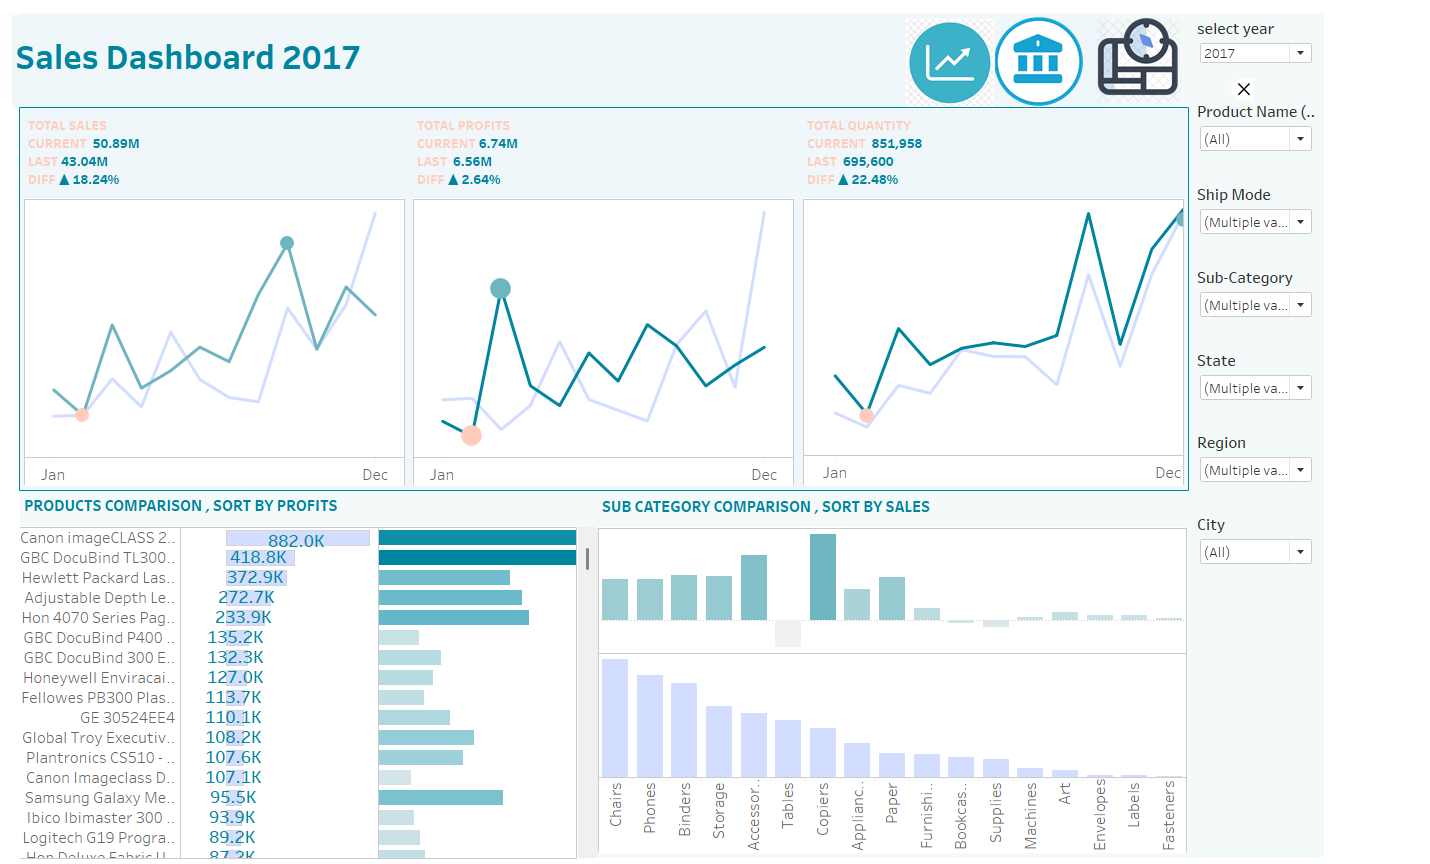

What the dashboard file says about the page in this screenshot:
{"tool":"tableau","page":{"name":"Sales Dashboard","canvas":[1000,1000],"units":"permille","ordinal":0},"visuals":[{"type":"legend","title":"KPI profits","param":"[federated.0tfaefm1ft650711id79g0emtrgj].[:Measure Names]","box":[6.1,10,987.9,89.8]},{"type":"parameter","param":"[Parameters].[Parameter 1]","box":[894.7,10,95.5,96]},{"type":"dashboard-object","box":[816.7,11.2,72.7,106]},{"type":"dashboard-object","box":[736.4,12.5,82.6,106]},{"type":"text","box":[0,13.7,440.9,89.8]},{"type":"dashboard-object","box":[675,15,69.7,103.5]},{"type":"dashboard-object","box":[922.7,82.3,18.2,29.9]},{"type":"filter","title":"KPI profits","param":"[federated.0tfaefm1ft650711id79g0emtrgj].[none:Product Name (Product.csv1):nk]","box":[894.7,106,95.5,96]},{"type":"worksheet","title":"KPI sales","mark":"Automatic","rows":["Calculation_2301057940116906021"],"cols":["Order Date"],"box":[6.1,119.7,294.9,443.9]},{"type":"worksheet","title":"KPI profits","mark":"Automatic","rows":["Calculation_2301057940089802767"],"cols":["Order Date"],"box":[301,119.7,294.9,443.9]},{"type":"worksheet","title":"KPI quantity","mark":"Automatic","rows":["Calculation_2301057940121350187"],"cols":["Order Date"],"box":[595.9,119.7,294.9,443.9]},{"type":"filter","title":"KPI profits","param":"[federated.0tfaefm1ft650711id79g0emtrgj].[none:Ship Mode:nk]","box":[894.7,202,95.5,96]},{"type":"filter","title":"KPI profits","param":"[federated.0tfaefm1ft650711id79g0emtrgj].[none:Sub-Category:nk]","box":[894.7,298,95.5,96]},{"type":"filter","title":"KPI profits","param":"[federated.0tfaefm1ft650711id79g0emtrgj].[none:State:nk]","box":[894.7,394,95.5,96]},{"type":"filter","title":"KPI profits","param":"[federated.0tfaefm1ft650711id79g0emtrgj].[none:Region:nk]","box":[894.7,490,95.5,96]},{"type":"blank","box":[3.8,563.6,446.2,425.2]},{"type":"worksheet","title":"products comparison","mark":"Bar","rows":["Product Name (Product.csv1)"],"cols":["Calculation_2301057940073836550","Calculation_2301057940116705316"],"box":[6.1,564.8,437.9,427.7]},{"type":"blank","box":[5.3,566.1,477.3,422.7]},{"type":"worksheet","title":"sub category comparison","mark":"Automatic","rows":["Calculation_2301057940073836550","Calculation_2301057940116705316"],"cols":["Sub-Category"],"box":[443.9,566.1,446.2,420.2]},{"type":"filter","title":"KPI profits","param":"[federated.0tfaefm1ft650711id79g0emtrgj].[none:city:nk]","box":[894.7,586,95.5,96]}]}

Visuals, with their boxes on the dashboard's canvas, which has no fixed pixel size, in thousandths of its width and height (x1, y1, x2, y2). These are canvas units, not pixel positions in the 1430x864 screenshot, which may show the page scaled, cropped or inside an application window:
"KPI profits" legend: (x1=6, y1=10, x2=994, y2=100)
parameter: (x1=895, y1=10, x2=990, y2=106)
dashboard-object: (x1=817, y1=11, x2=889, y2=117)
dashboard-object: (x1=736, y1=12, x2=819, y2=118)
text: (x1=0, y1=14, x2=441, y2=104)
dashboard-object: (x1=675, y1=15, x2=745, y2=118)
dashboard-object: (x1=923, y1=82, x2=941, y2=112)
"KPI profits" filter: (x1=895, y1=106, x2=990, y2=202)
"KPI sales" worksheet: (x1=6, y1=120, x2=301, y2=564)
"KPI profits" worksheet: (x1=301, y1=120, x2=596, y2=564)
"KPI quantity" worksheet: (x1=596, y1=120, x2=891, y2=564)
"KPI profits" filter: (x1=895, y1=202, x2=990, y2=298)
"KPI profits" filter: (x1=895, y1=298, x2=990, y2=394)
"KPI profits" filter: (x1=895, y1=394, x2=990, y2=490)
"KPI profits" filter: (x1=895, y1=490, x2=990, y2=586)
blank: (x1=4, y1=564, x2=450, y2=989)
"products comparison" worksheet (Bar marks): (x1=6, y1=565, x2=444, y2=992)
blank: (x1=5, y1=566, x2=483, y2=989)
"sub category comparison" worksheet: (x1=444, y1=566, x2=890, y2=986)
"KPI profits" filter: (x1=895, y1=586, x2=990, y2=682)
